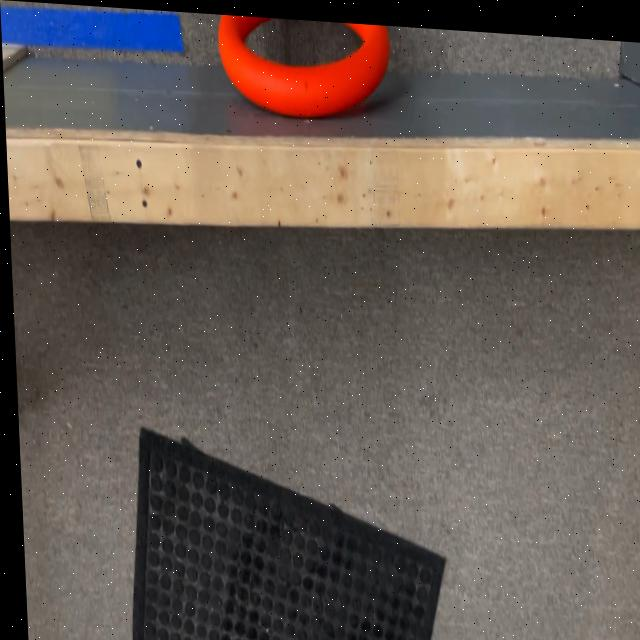note: (216, 11, 400, 113)
